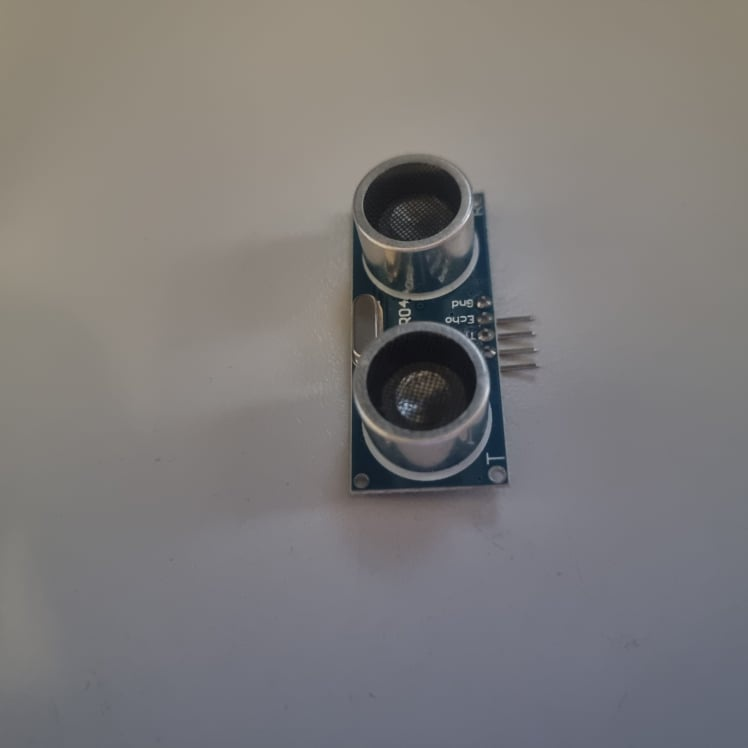SENSOR: (344, 153, 541, 495)
